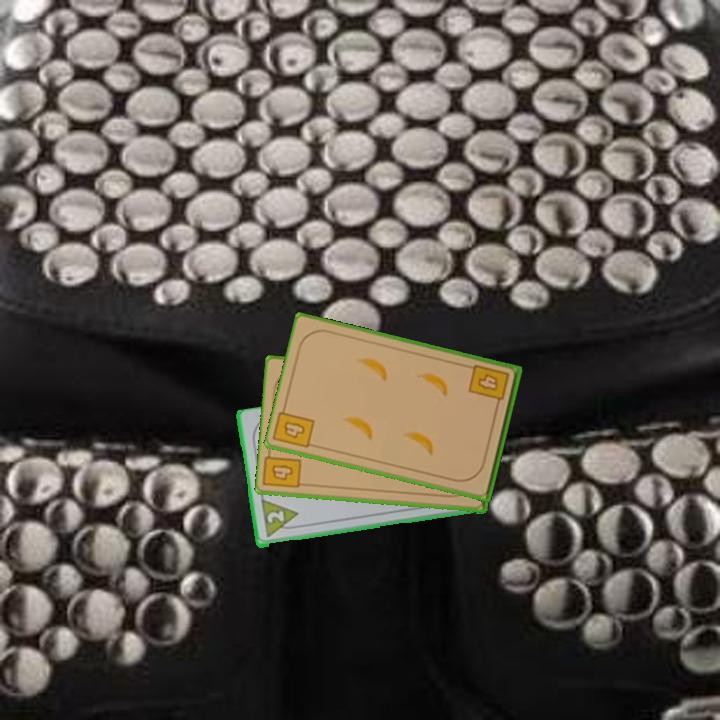2p: (257, 497, 302, 542)
4b: (466, 361, 512, 411), (280, 418, 308, 442), (268, 461, 295, 484)
